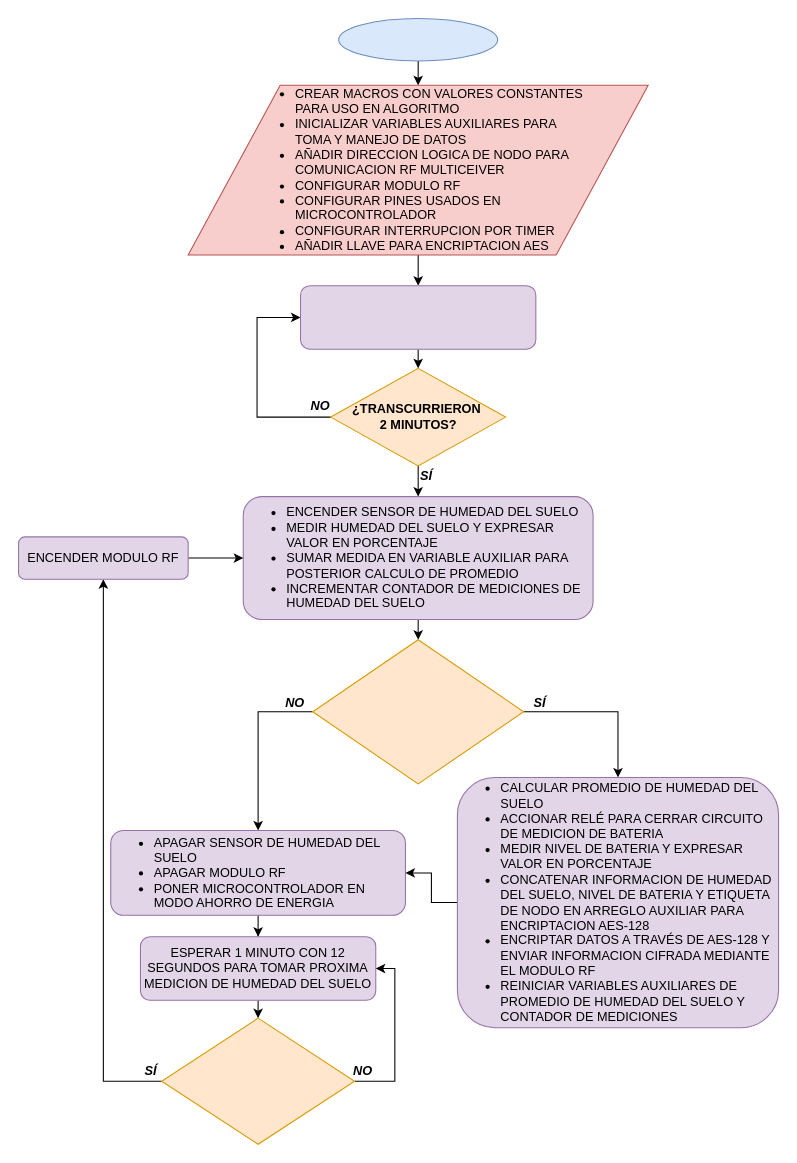
Some shapes in this 797 by 1163 pixel diagram are drawn without their labels. Here are the shapes that lost their labels. From the top down, the centre of each, then its label:
[418,39]: INICIO
[417,317]: ESPERAR 2 MINUTOS PARA ESTABILIZACION DE SENSOR DE HUMEDAD DEL SUELO
[418,711]: ¿SE TOMARON 50 MEDIDAS DE HUMEDAD DEL SUELO?
[258,1080]: ¿TRANSCURRIÓ 1 MINUTO CON 12 SEGUNDOS?
